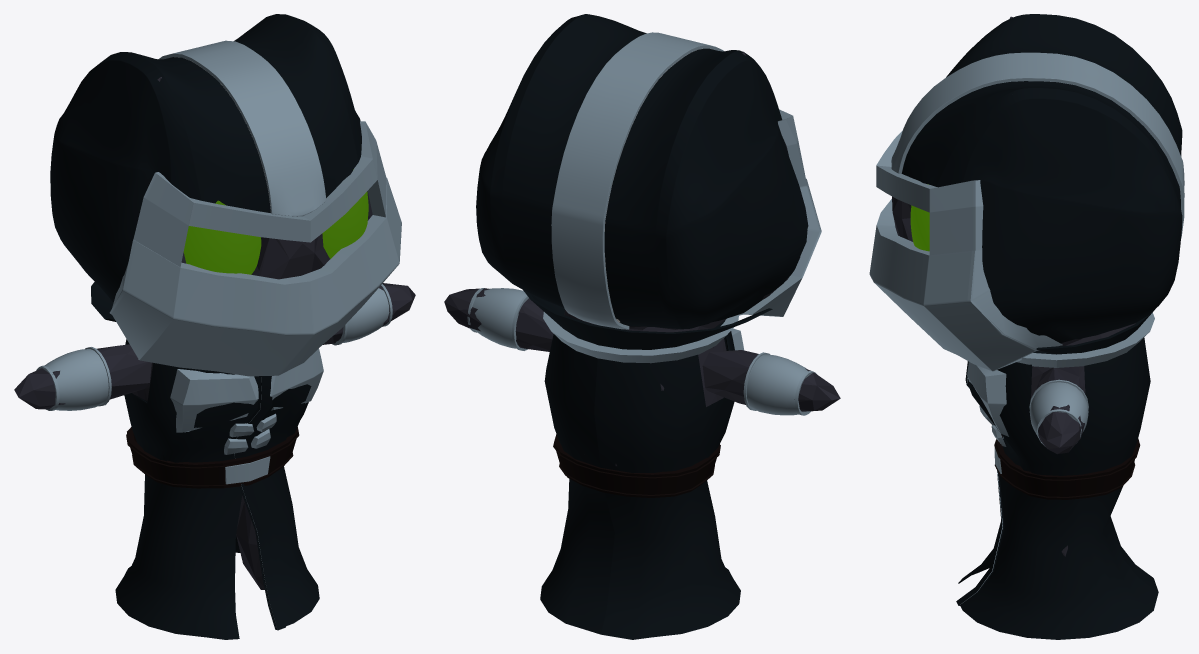
The model's file is cat5.fbx.
The picture shows the model from 3 angles, left to right: view 1: azimuth 30°, elevation 25°; view 2: azimuth 150°, elevation 25°; view 3: azimuth 270°, elevation 25°; orthographic projection. The views are drawn at different scales.
Visible parts, largest first — view 1: Head_Guard1, Mask_Guard, Coat1, Quomcom:Mesh, Right_Eye_Shell (×2), Belt1, Right_Pec, Right_Gautlet, Left_Gauntlet, Left_Pec; view 2: Head_Guard1, Coat1, Quomcom:Mesh, Collar, Belt1, Right_Gautlet, Mask_Guard, Left_Gauntlet; view 3: Head_Guard1, Coat1, Mask_Guard, Belt1, Quomcom:Mesh, Collar, Left_Gauntlet, Left_Pec, Right_Eye_Shell.
Boxes of the visible parts, bbox=[...] form: Head_Guard1: bbox=[50, 14, 361, 302]; Mask_Guard: bbox=[109, 121, 401, 376]; Coat1: bbox=[115, 339, 319, 639]; Quomcom:Mesh: bbox=[14, 77, 415, 589]; Right_Eye_Shell (×2): bbox=[183, 169, 368, 274]; Belt1: bbox=[126, 427, 299, 488]; Right_Pec: bbox=[170, 369, 258, 432]; Right_Gautlet: bbox=[36, 347, 111, 410]; Left_Gauntlet: bbox=[332, 284, 392, 345]; Left_Pec: bbox=[270, 348, 323, 410]; Head_Guard1: bbox=[476, 14, 808, 329]; Coat1: bbox=[540, 331, 740, 639]; Quomcom:Mesh: bbox=[444, 52, 840, 466]; Collar: bbox=[523, 290, 772, 363]; Belt1: bbox=[553, 434, 720, 497]; Right_Gautlet: bbox=[743, 352, 817, 415]; Mask_Guard: bbox=[739, 109, 821, 316]; Left_Gauntlet: bbox=[467, 288, 528, 350]; Head_Guard1: bbox=[891, 14, 1184, 343]; Coat1: bbox=[956, 337, 1158, 639]; Mask_Guard: bbox=[869, 131, 1062, 371]; Belt1: bbox=[994, 434, 1140, 499]; Quomcom:Mesh: bbox=[892, 16, 1135, 556]; Collar: bbox=[1017, 309, 1154, 367]; Left_Gauntlet: bbox=[1029, 379, 1088, 445]; Left_Pec: bbox=[967, 362, 1008, 436]; Right_Eye_Shell: bbox=[910, 184, 929, 251].
Size of what is drawn, in the model's own units: 15.75 by 21.33 by 10.98.
